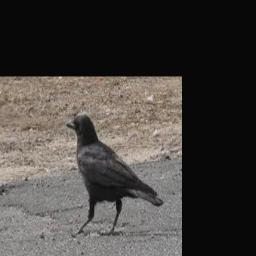Crow: (66, 114, 164, 237)
